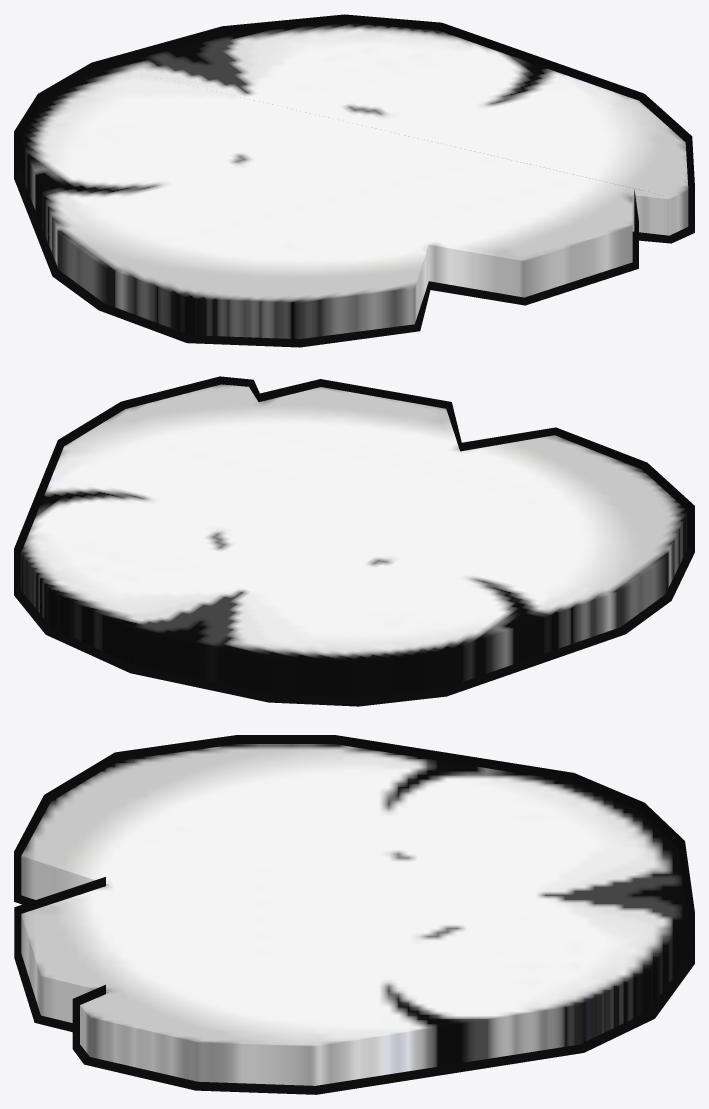
File: Item_Apparel_BasicShirt_Things_Pawn_Humanlike_Apparel_ShirtBasic_ShirtBasic_Fat.glb
3 renders of one model, top to bottom at view 1: azimuth 30°, elevation 25°; view 2: azimuth 150°, elevation 25°; view 3: azimuth 270°, elevation 25°, orthographic. The views are drawn at different scales.
Parts seen in each view (by area): view 1: Body, Outline; view 2: Body, Outline; view 3: Body, Outline.
Part boxes in pixels (<box>): Body: <box>20,22,688,339</box>; Outline: <box>14,14,694,347</box>; Body: <box>20,384,688,698</box>; Outline: <box>14,376,694,706</box>; Body: <box>21,744,687,1085</box>; Outline: <box>14,735,694,1094</box>.
Size of the model in its own units: 0.5818 by 0.0493 by 0.5429.
2 materials, 1 textured.
